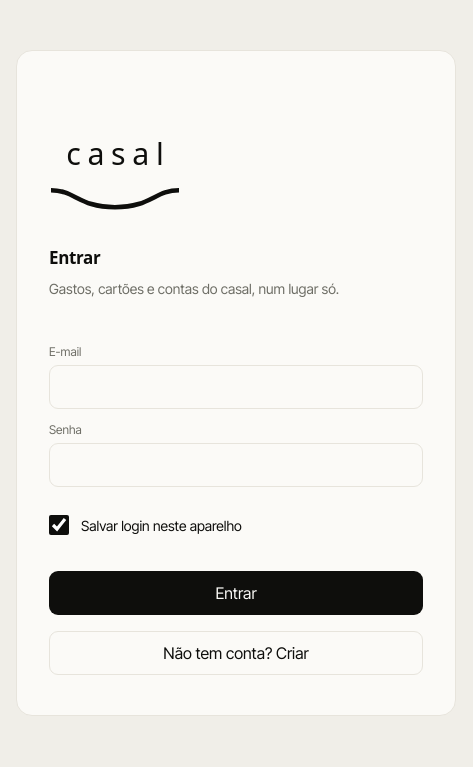
Scenario: Entrar › explica senha curta ao clicar em Entrar
The image size is (473, 767).
Type "eu@casa.br" into the field labelled "E-mail".
click(236, 387); type("eu@casa.br")  # box [49,365,423,409]
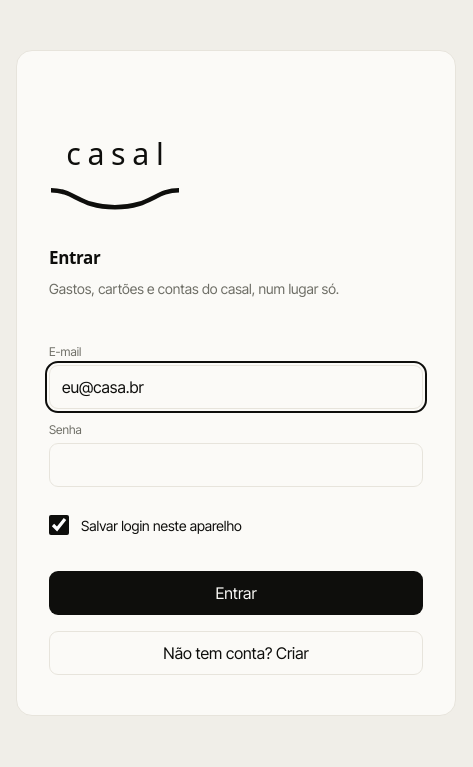
Type "12345" into the password field labelled "Senha".
click(236, 465); type("12345")  # box [49,443,423,487]
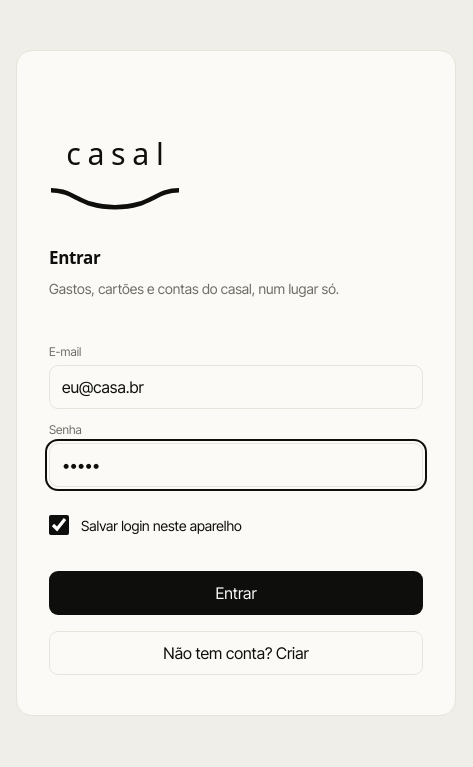
Click the button "Entrar".
click(236, 593)  # box [49,571,423,615]
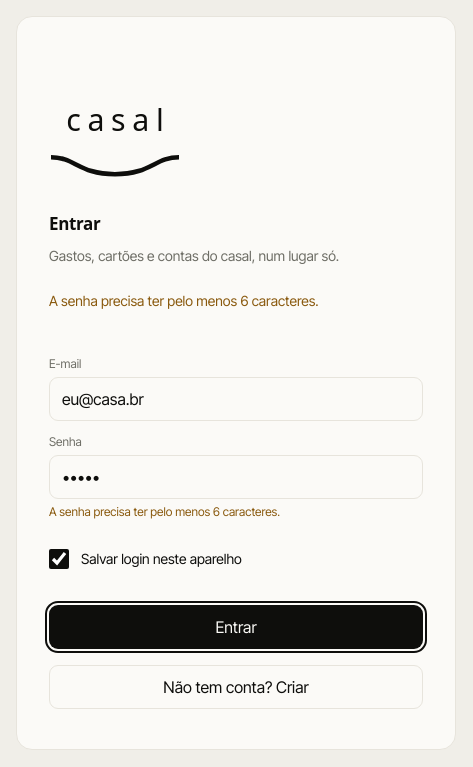
Check: the message reads "A senha precisa ter pelo menos 6 caracteres.", box [49,292,319,309]
